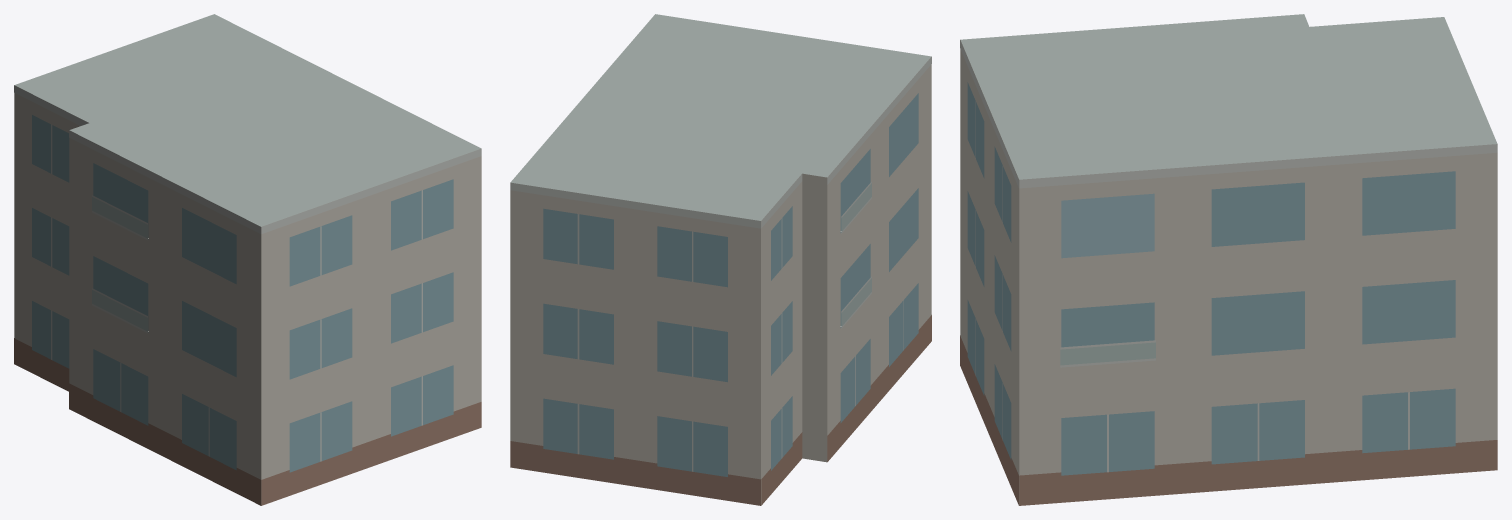
The model's file is survey-upis-32833314.glb.
The picture shows the model from 3 angles, left to right: view 1: azimuth 30°, elevation 25°; view 2: azimuth 150°, elevation 25°; view 3: azimuth 270°, elevation 25°; orthographic projection. The views are drawn at different scales.
Parts seen in each view (by area): view 1: survey-upis-32833314.tmp; view 2: survey-upis-32833314.tmp; view 3: survey-upis-32833314.tmp.
Boxes of the visible parts, bbox=[...] form: survey-upis-32833314.tmp: bbox=[14, 14, 481, 505]; survey-upis-32833314.tmp: bbox=[510, 14, 931, 505]; survey-upis-32833314.tmp: bbox=[960, 14, 1497, 505].
Bounding box in the file's own units: 9.98 × 9.15 × 13.67.
